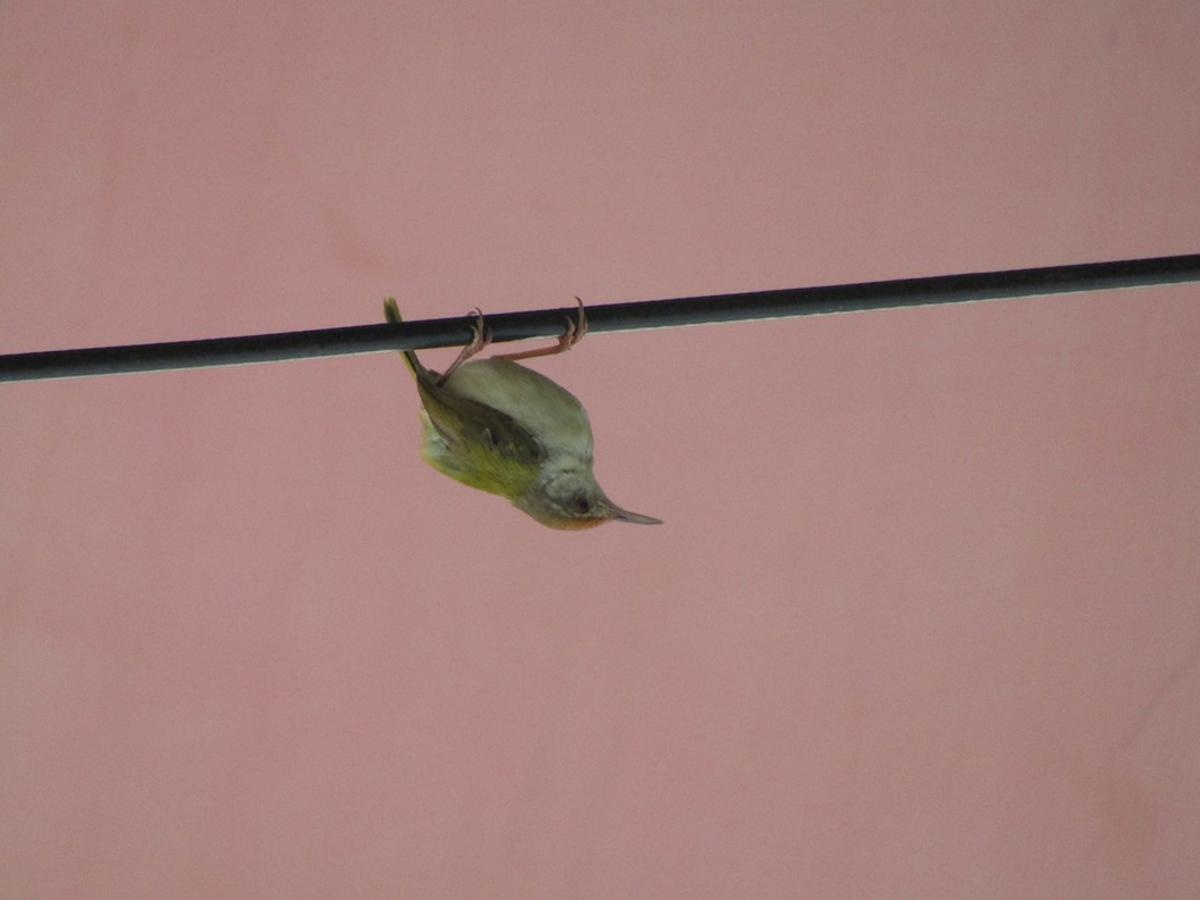tailorbird: (373, 290, 686, 548)
